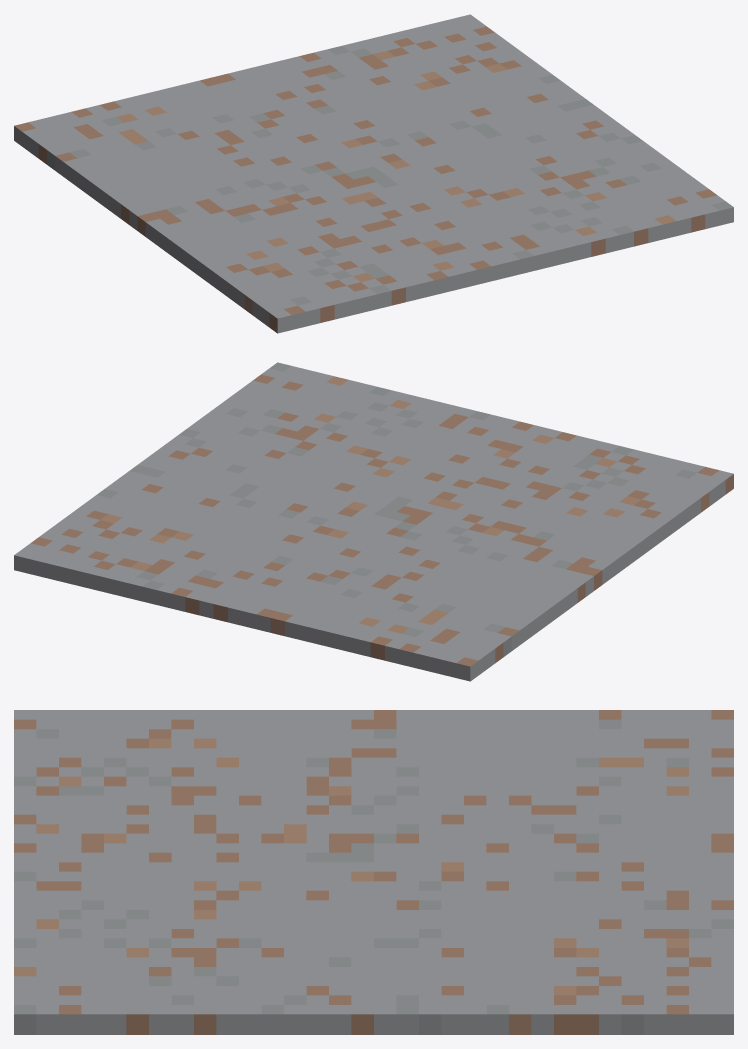
The model's file is steel-rusted.panel.glb.
3 views of the same model, one above another, from view 1: azimuth 30°, elevation 25°; view 2: azimuth 150°, elevation 25°; view 3: azimuth 270°, elevation 25° (orthographic). The views are drawn at different scales.
Bounding box in the file's own units: 1 × 0.0312 × 1.
